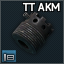AK 7.62x39 Taktika Tula muzzle adapter: (0, 0, 64, 64)
